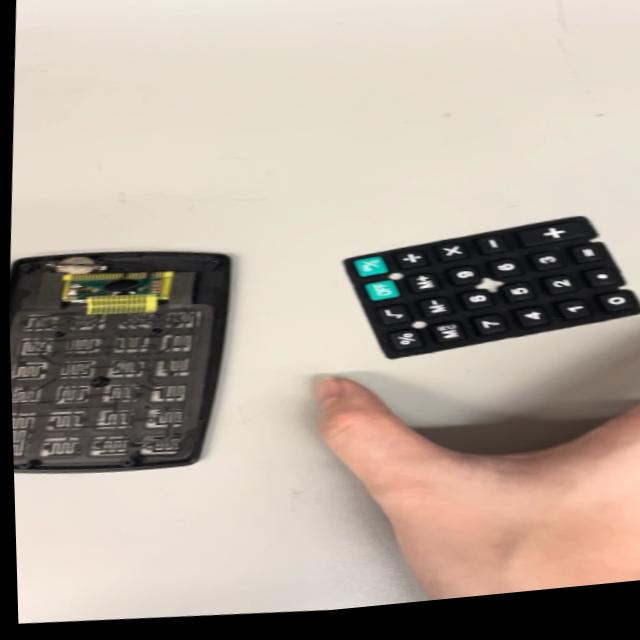front_panel: (7, 226, 262, 493)
number_pad: (326, 191, 640, 388)
